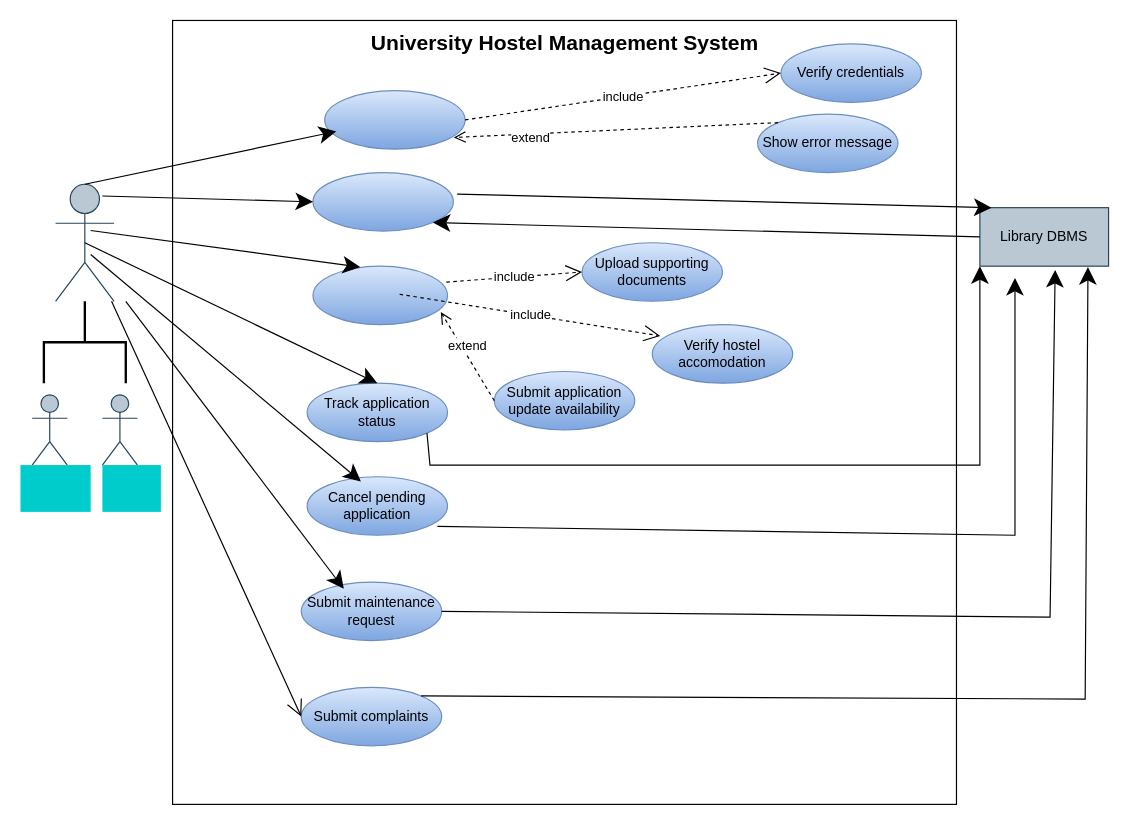
Image size: 1129x825. Some labels were removed from this diagram. Here are the shapes that lost their labels. From the top down, the box of each, then its label:
(324, 90, 465, 149): Login
(312, 171, 453, 231): Browse hostel room
(312, 265, 448, 325): Apply for room
(20, 464, 90, 511): New applicants
(102, 464, 160, 511): Current residents
